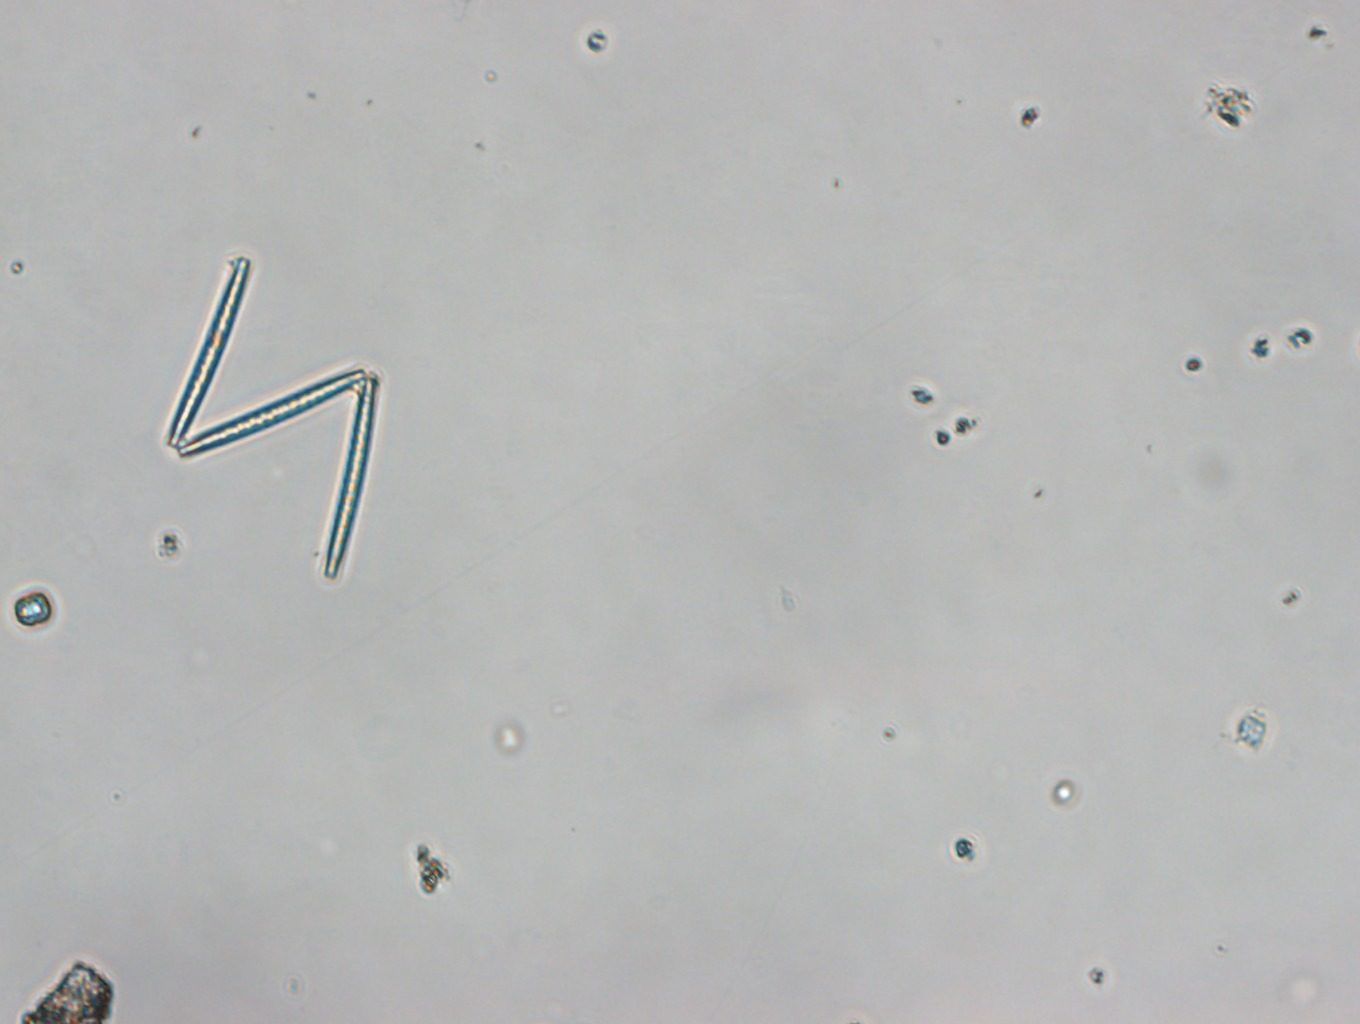thalassionema nitzschioides: (157, 248, 385, 581)
